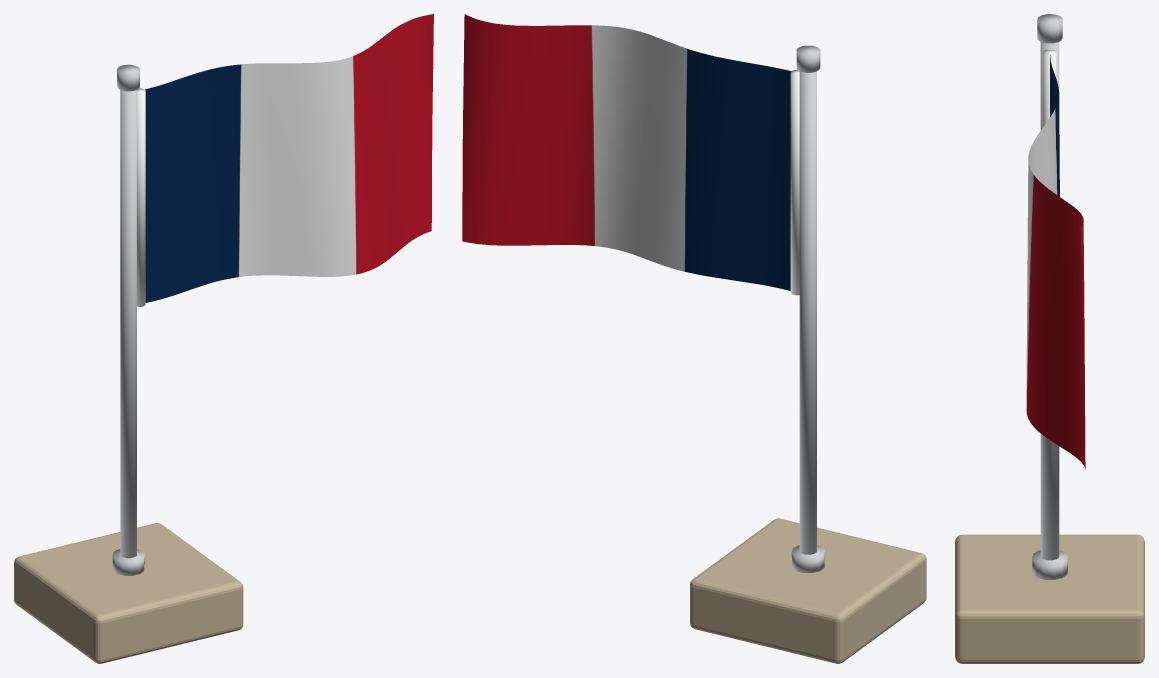
File: upm_mv3pr3r17op.glb
3 renders of one model, left to right at view 1: azimuth 30°, elevation 25°; view 2: azimuth 150°, elevation 25°; view 3: azimuth 270°, elevation 25°, orthographic. The views are drawn at different scales.
Visible parts, largest first — view 1: flag, Cube, Cylinder, Cylinder.003; view 2: flag, Cube, Cylinder, Cylinder.003; view 3: Cube, flag, Cylinder, Cylinder.003.
Part boxes in pixels (<box>): flag: <box>145,14,433,302</box>; Cube: <box>14,523,243,663</box>; Cylinder: <box>112,64,144,575</box>; Cylinder.003: <box>137,88,145,306</box>; flag: <box>462,14,791,290</box>; Cube: <box>690,518,926,663</box>; Cylinder: <box>791,45,824,572</box>; Cylinder.003: <box>790,70,799,295</box>; Cube: <box>955,534,1144,663</box>; flag: <box>1026,55,1085,469</box>; Cylinder: <box>1032,14,1067,579</box>; Cylinder.003: <box>1043,49,1056,126</box>.
Bounding box in the file's own units: 0.8483 × 1.13 × 0.32.
4 materials, 1 textured.
